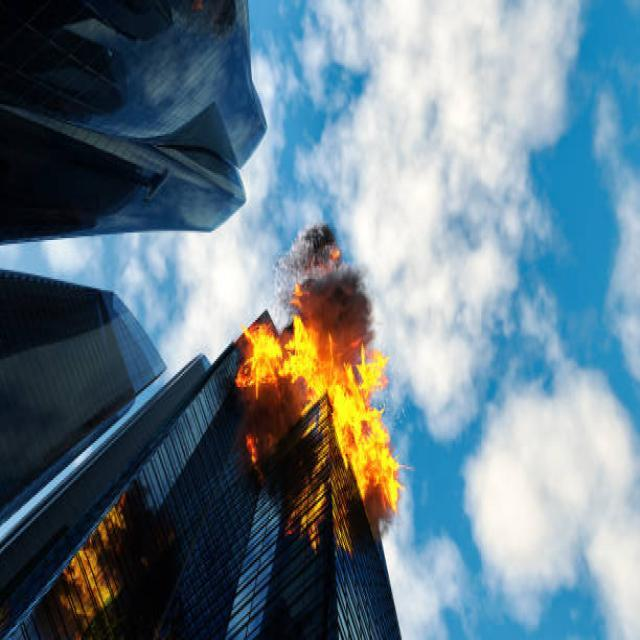Fire: (252, 259, 416, 552)
Smoke: (282, 232, 367, 324)
